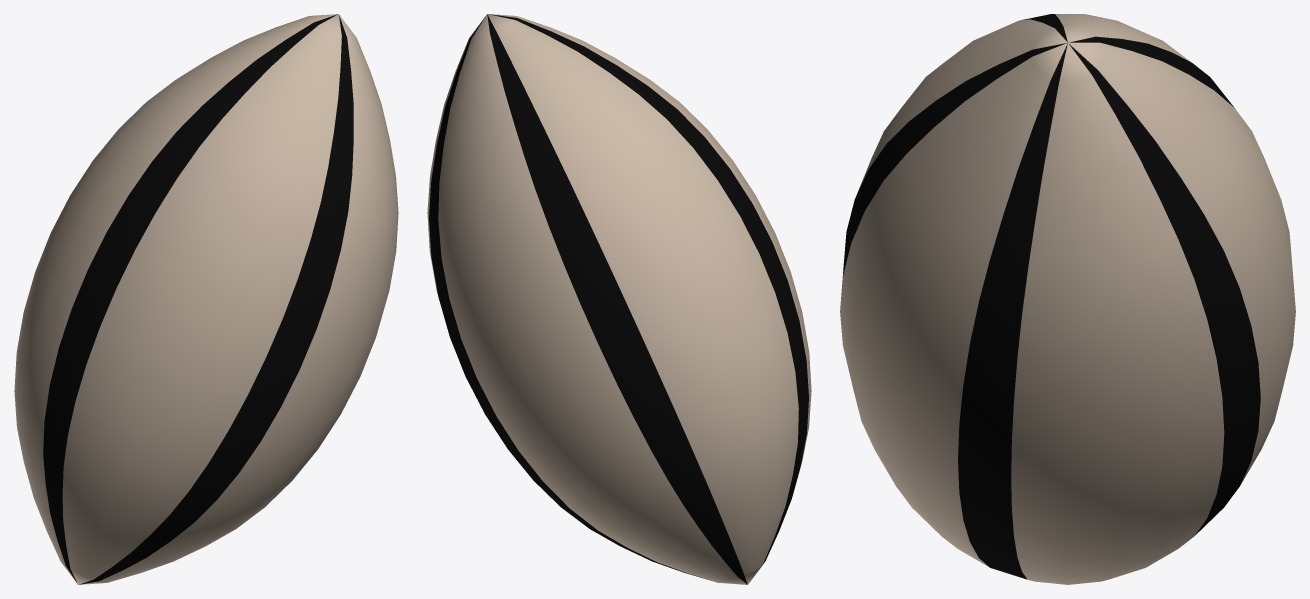
Rendered from Sports_Rugby Ball.fbx.
3 views of the same model, side by side, from view 1: azimuth 30°, elevation 25°; view 2: azimuth 150°, elevation 25°; view 3: azimuth 270°, elevation 25° (orthographic). The views are drawn at different scales.
Visible parts, largest first — view 1: pSphere1; view 2: pSphere1; view 3: pSphere1.
Boxes of the visible parts, box(x1,y1,x2,y2) form: pSphere1: box(14, 14, 398, 584); pSphere1: box(427, 14, 811, 584); pSphere1: box(840, 14, 1295, 584).
Bounding box in the file's own units: 0.6208 × 0.8782 × 0.536.
